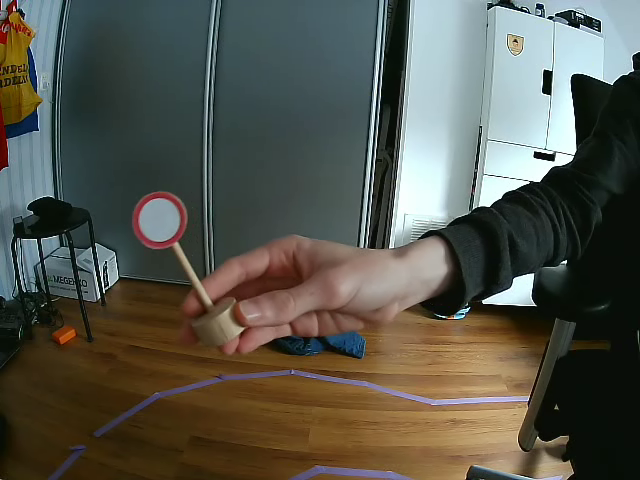wegdicht: (134, 191, 187, 250)
